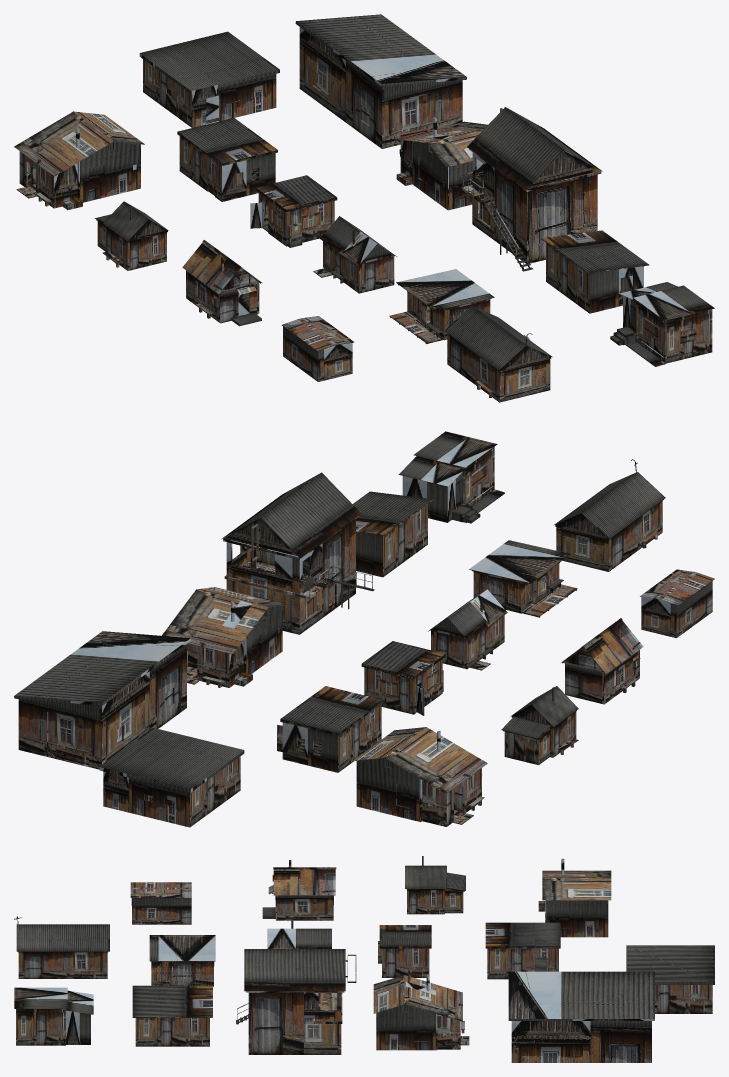
The model's file is russian-booths-pack.gltf.
3 views of the same model, one above another, from view 1: azimuth 30°, elevation 25°; view 2: azimuth 150°, elevation 25°; view 3: azimuth 270°, elevation 25° (orthographic). The views are drawn at different scales.
Parts seen in each view (by area): view 1: Box001 (×12), Object001_01 - Default_0, Box007, Box005; view 2: Box001 (×12), Object001_01 - Default_0, Box005, Box007; view 3: Box001 (×12), Object001_01 - Default_0, Box005, Box007.
Part boxes in pixels (box(x1,y1,x2,y2)): Box001 (×12): box(14, 14, 714, 402); Object001_01 - Default_0: box(177, 118, 277, 201); Box007: box(250, 175, 337, 247); Box005: box(389, 269, 494, 343); Box001 (×12): box(14, 431, 714, 827); Object001_01 - Default_0: box(277, 686, 383, 772); Box005: box(469, 540, 577, 617); Box007: box(361, 641, 445, 715); Box001 (×12): box(14, 856, 714, 1062); Object001_01 - Default_0: box(485, 922, 560, 979); Box005: box(149, 935, 215, 986); Box007: box(378, 925, 431, 977).
Bounding box in the file's own units: 33.7 × 8.58 × 59.21.
Materials: 1 (1 with a texture image).
